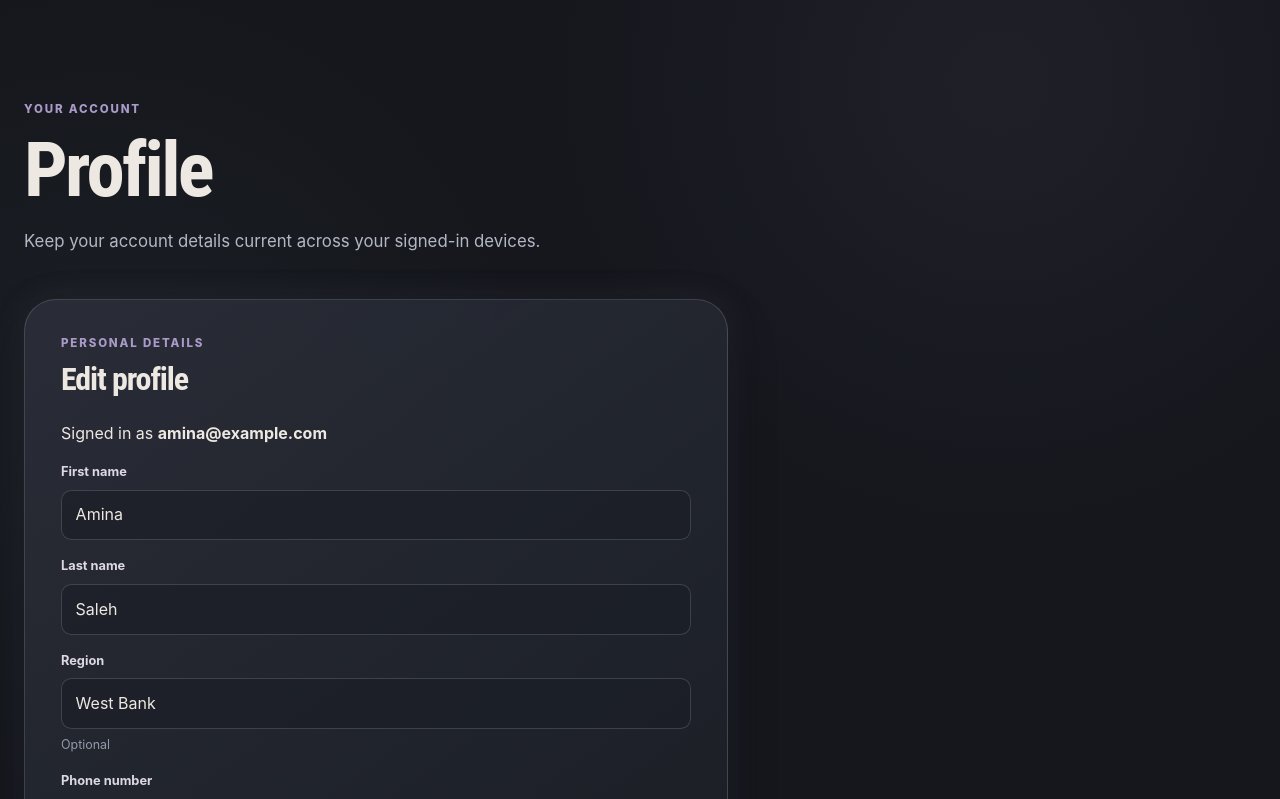
ProfilePage › resets edited values and validation state to the subscribed profile
Step 1. Clear the field labelled "First name" → point(376, 515), box [61, 490, 691, 540]
(page scrolled)
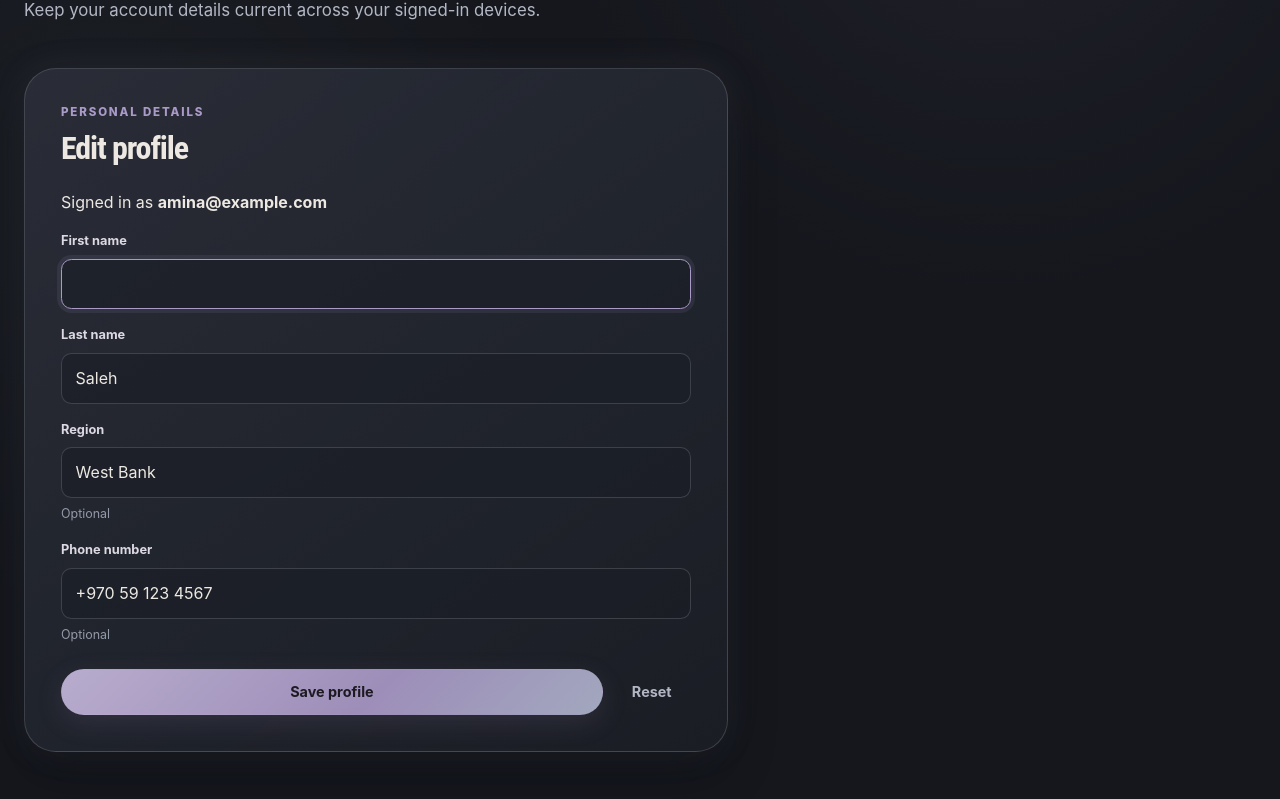
Step 2. Replace the text in the field labelled "Phone number" with "invalid" → point(376, 593), box [61, 568, 691, 619]
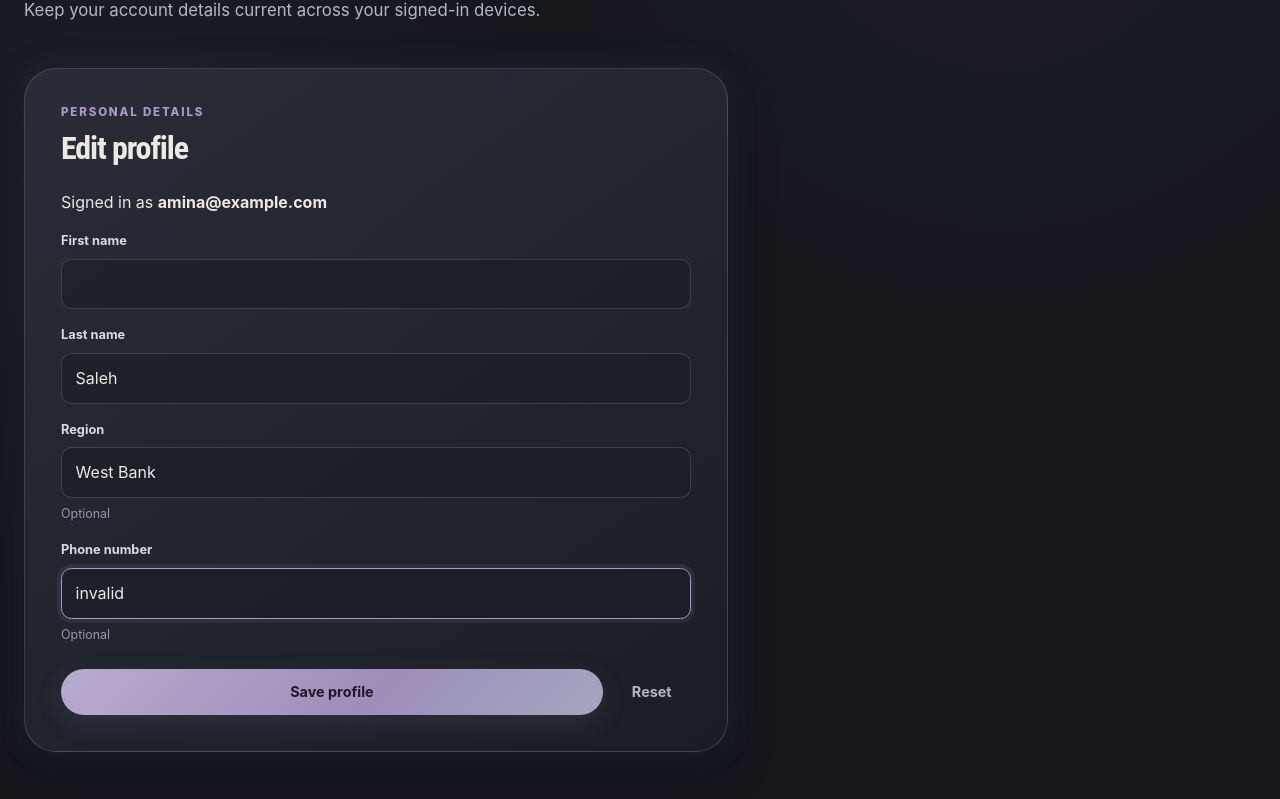
Step 3. Click the button "Save profile" → point(332, 692), box [61, 669, 603, 715]
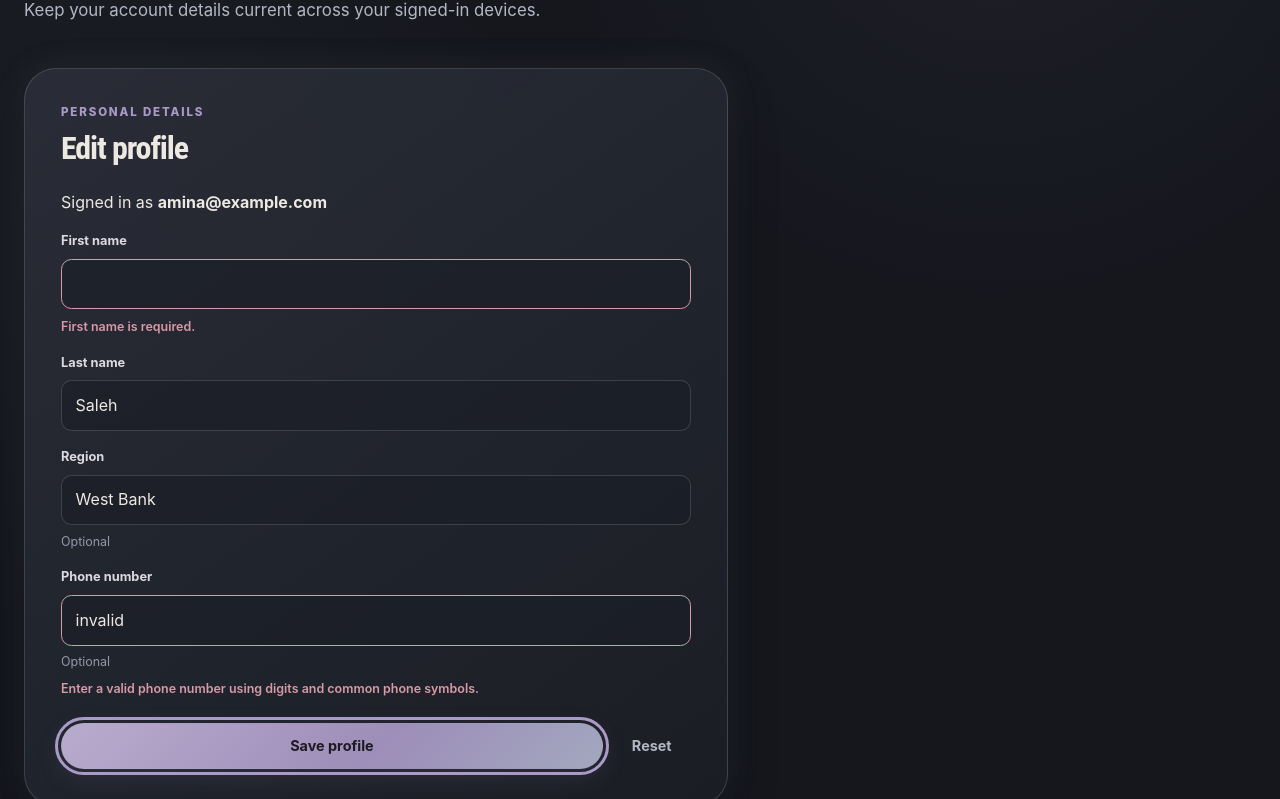
Step 4. Click the button "Reset" → point(652, 746), box [612, 723, 691, 769]
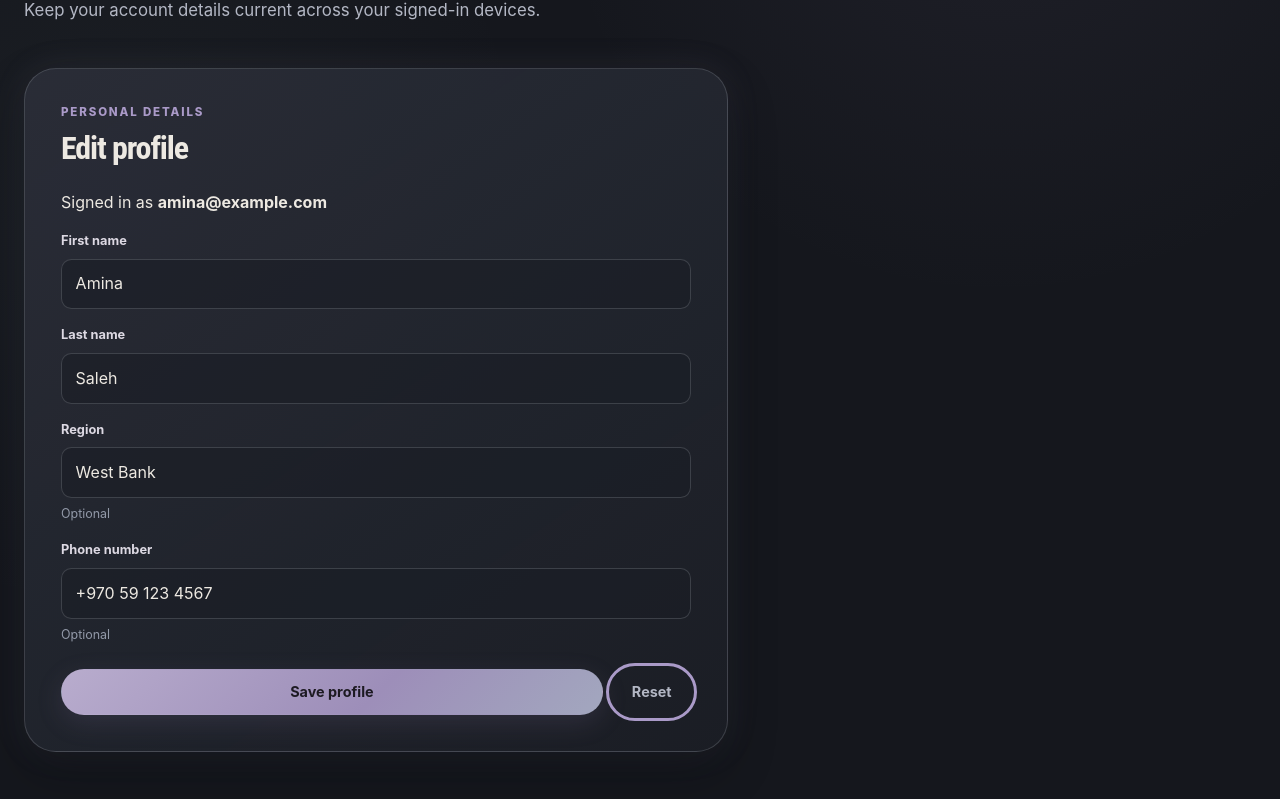
Now the field labelled "First name" holds "Amina", box [61, 259, 691, 309]
Now the field labelled "Phone number" holds "+970 59 123 4567", box [61, 568, 691, 619]
Now the text "First name is required." is gone
